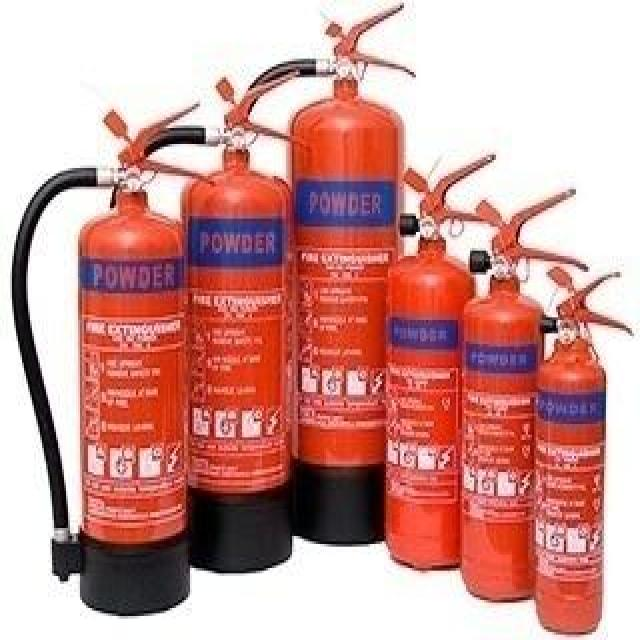fire_extinguisher: (0, 92, 190, 612), (283, 0, 415, 541), (183, 47, 305, 572), (457, 181, 587, 600), (380, 148, 494, 564), (530, 266, 630, 634)
